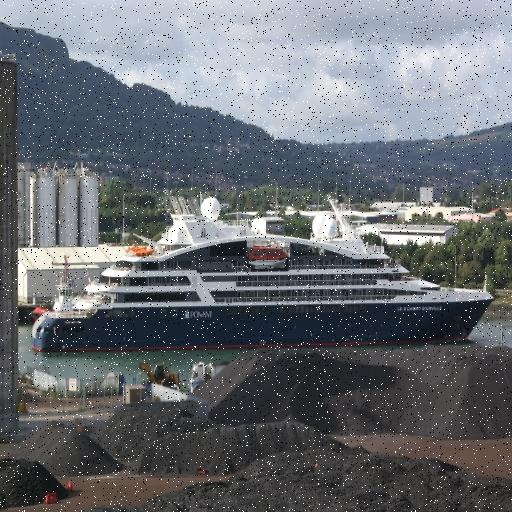cruises: (29, 195, 498, 357)
